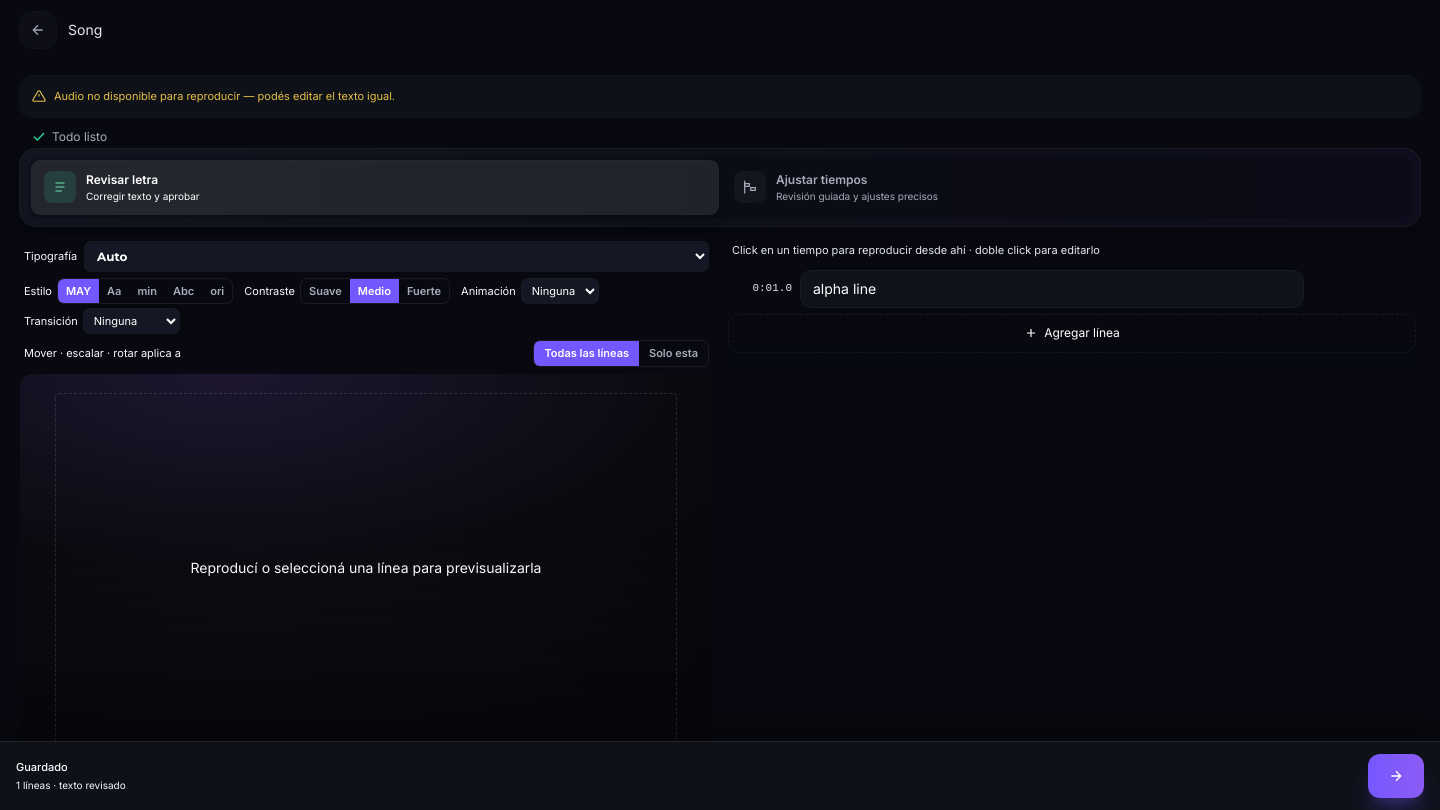
Scenario: banner de fallo de respaldo — copy por causa › un 404 (job-gone) muestra 'ya no está en el servidor'
Replace the text in the field showing "alpha line" with "alpha line editada": (1052, 289) [800,270,1304,308]
Wait 3100 ms
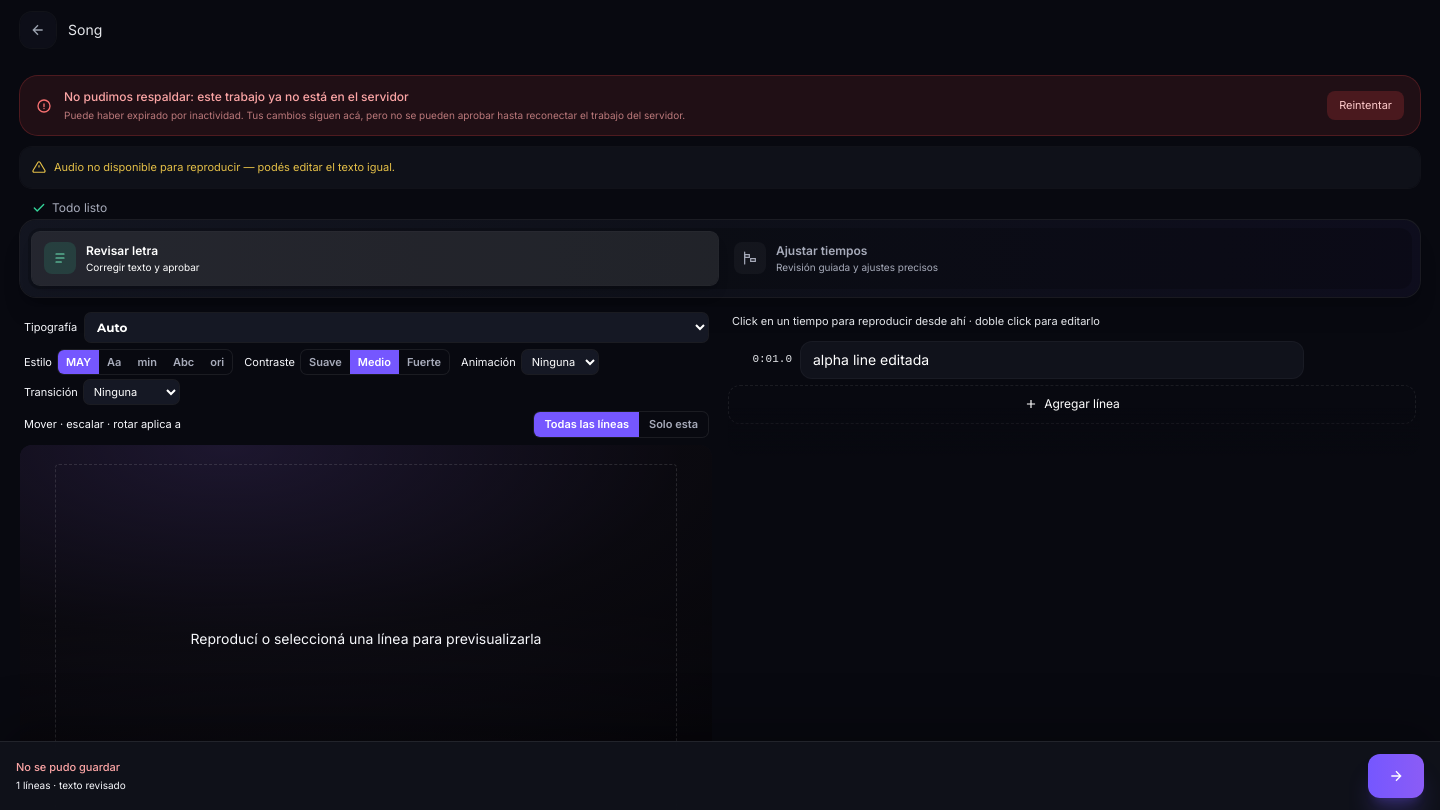
Expected: the text "No pudimos respaldar: este trabajo ya no está en el servidor" is shown, [64,89,409,104]
